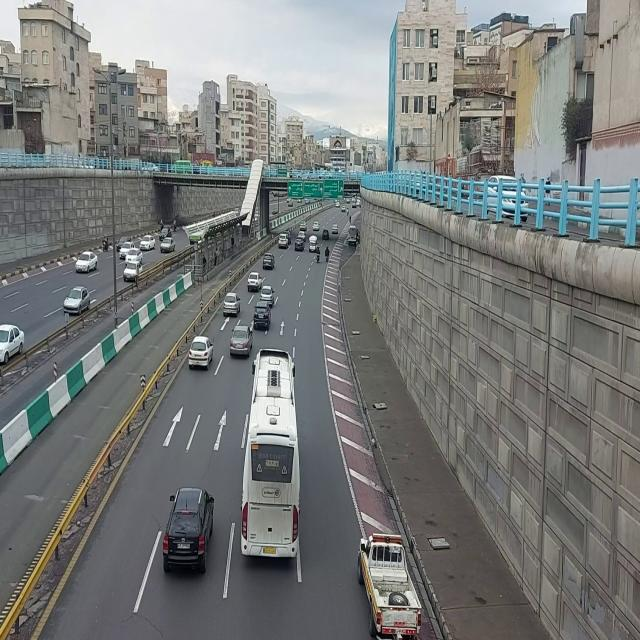Bus: (241, 346, 303, 567)
Car: (162, 484, 217, 579), (0, 318, 29, 371), (64, 282, 92, 320), (187, 334, 214, 373), (230, 324, 252, 361), (252, 299, 272, 333), (75, 251, 98, 274), (223, 290, 241, 318), (123, 260, 143, 283), (247, 272, 263, 294), (259, 286, 276, 305), (160, 236, 177, 255), (139, 234, 156, 252), (262, 252, 276, 272), (125, 248, 144, 262), (277, 232, 290, 250), (118, 242, 130, 257), (295, 236, 305, 252), (159, 226, 171, 237), (322, 228, 330, 241), (299, 220, 308, 230), (313, 220, 320, 232), (332, 223, 339, 235), (342, 206, 346, 213), (336, 201, 340, 208)
Motorcycle: (102, 233, 109, 254), (325, 244, 330, 264), (172, 217, 178, 233), (316, 246, 321, 264), (158, 216, 164, 231), (349, 214, 352, 226), (346, 206, 349, 216)
Pickup: (356, 529, 424, 640), (309, 234, 318, 253)
